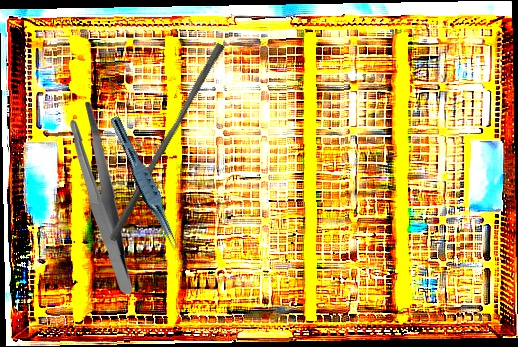Dressing Forceps: (66, 100, 137, 296)
Pusher: (108, 38, 226, 247)
Tissue Forceps: (102, 115, 187, 252)
